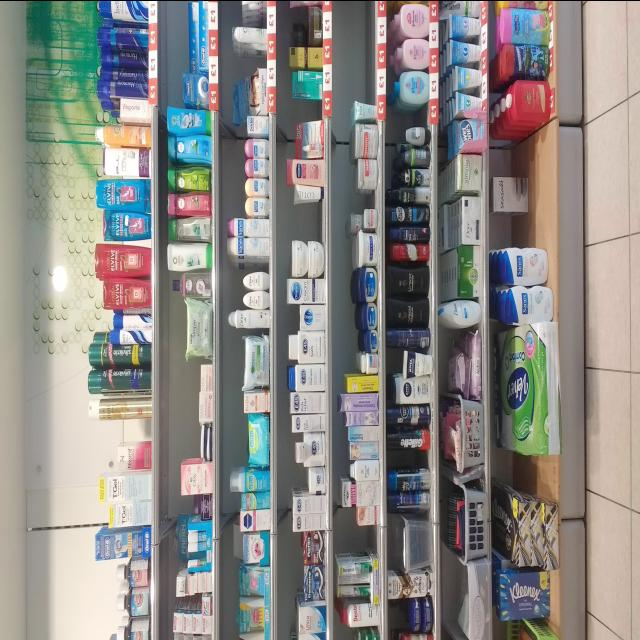empty_space: (531, 130, 553, 238), (348, 6, 372, 97), (514, 452, 554, 488), (294, 204, 320, 236), (121, 417, 151, 440), (358, 525, 382, 547), (402, 449, 430, 467), (405, 105, 427, 125), (299, 104, 323, 120), (362, 192, 378, 206)
